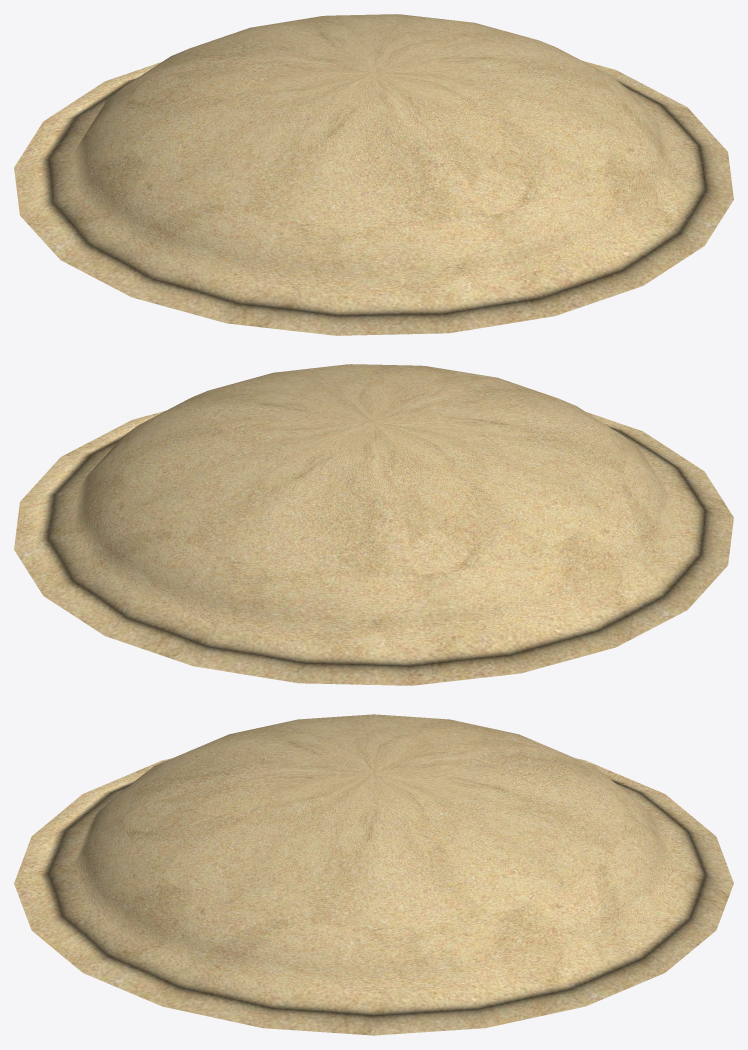
Rendered from island.fbx.
3 renders of one model, top to bottom at view 1: azimuth 30°, elevation 25°; view 2: azimuth 150°, elevation 25°; view 3: azimuth 270°, elevation 25°, orthographic.
Visible parts, largest first — view 1: pSphere1; view 2: pSphere1; view 3: pSphere1.
Boxes of the visible parts, x1,y1,x2,y2 form: pSphere1: (14, 14, 733, 335); pSphere1: (14, 364, 733, 685); pSphere1: (14, 714, 733, 1035).
Size of the model in its own units: 5.91 by 1 by 5.91.
